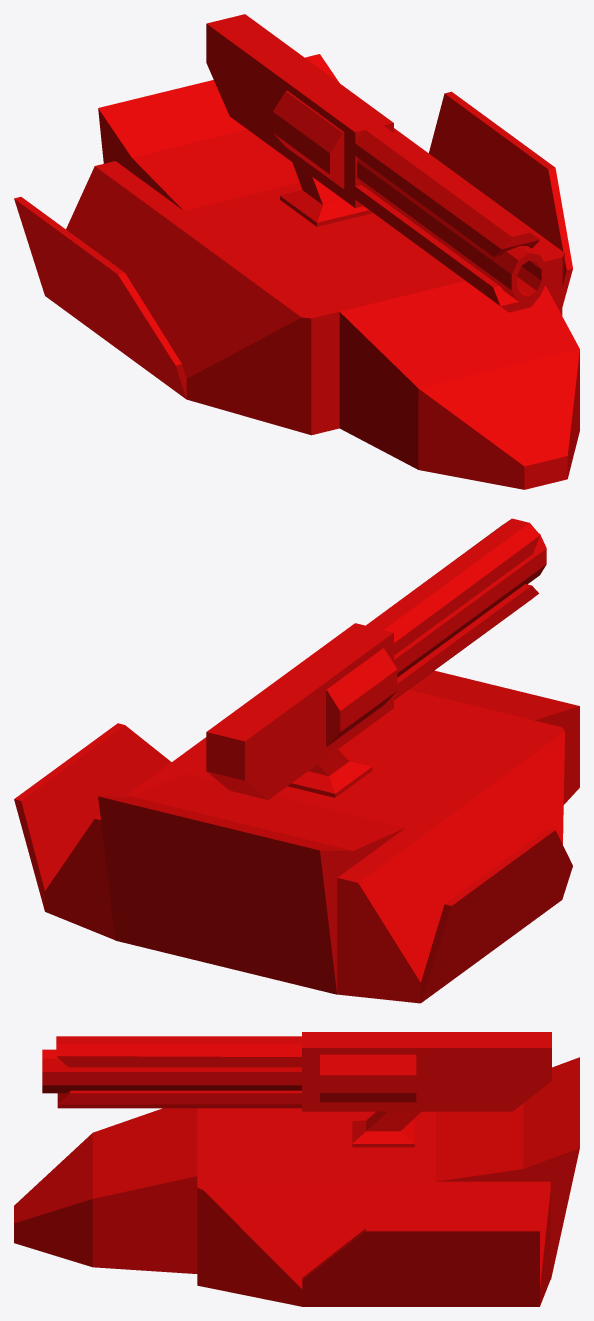
File: AH_car_prototype.fbx
The picture shows the model from 3 angles, top to bottom: view 1: azimuth 30°, elevation 25°; view 2: azimuth 150°, elevation 25°; view 3: azimuth 270°, elevation 25°; orthographic projection. The views are drawn at different scales.
Visible parts, largest first — view 1: Cube; view 2: Cube; view 3: Cube.
Boxes of the visible parts, x1,y1,x2,y2 form: Cube: [14, 14, 579, 489]; Cube: [14, 518, 579, 1003]; Cube: [14, 1032, 579, 1306].
Bounding box in the file's own units: 3.95 × 1.99 × 5.27.
